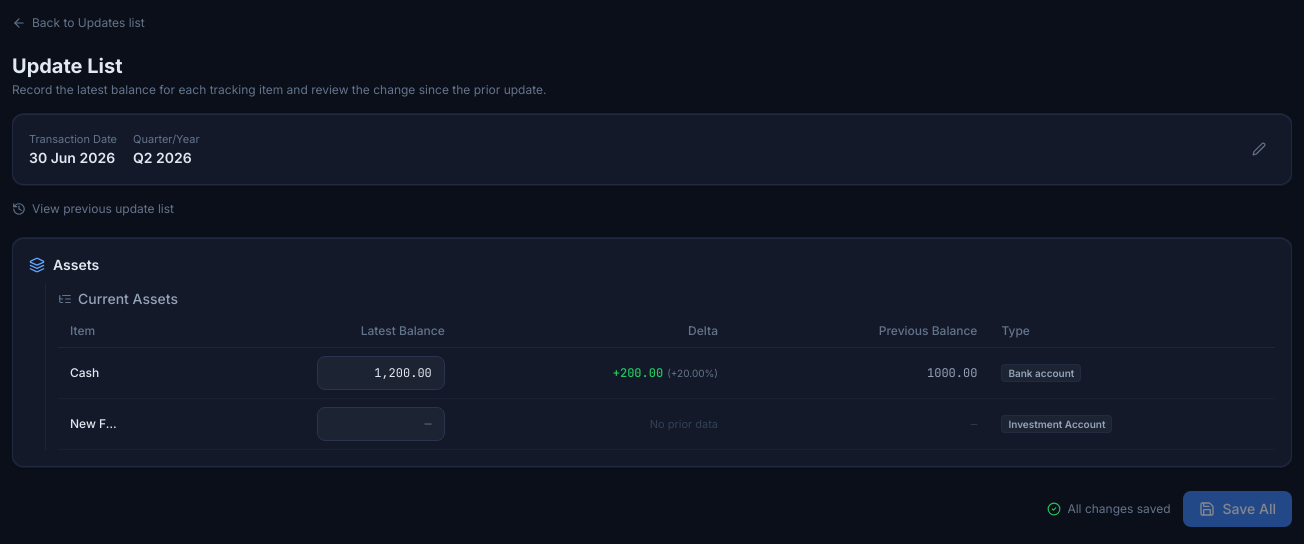
Scenario: UpdateTrackingListDetailPage — balance editing and save › displays thousand-separator commas live while typing a large balance
The width and height of the screenshot is (1304, 544).
Replace the text in the field named "Latest balance for Cash" with "1500000". click: (381, 372)
box: [317,356,445,390]
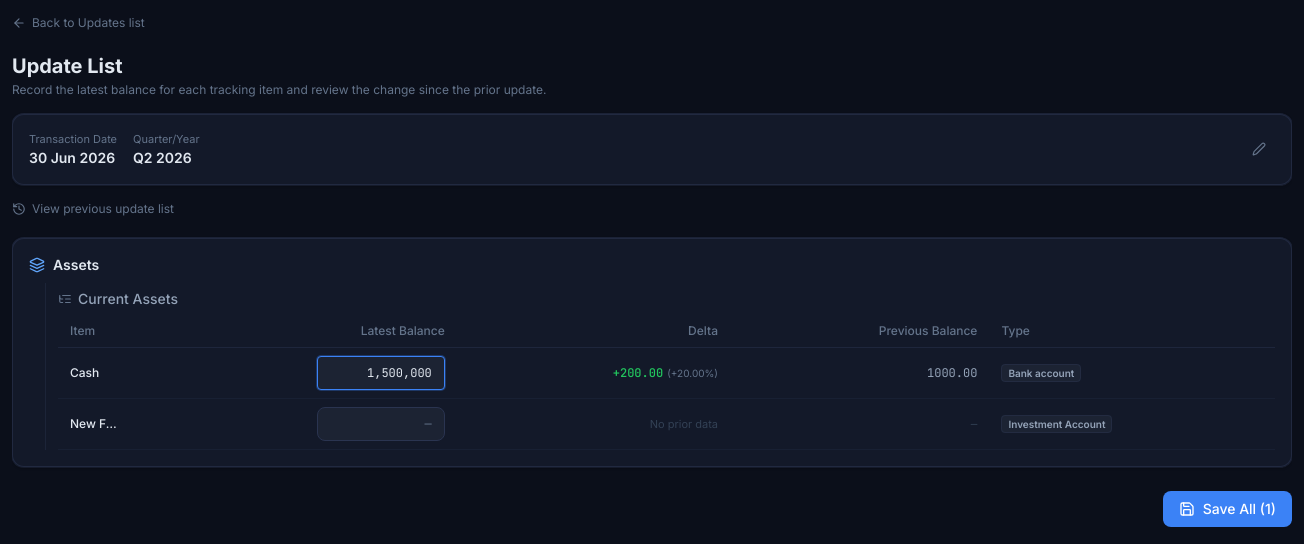
Expected: the field named "Latest balance for Cash" holds "1,500,000", [317,356,445,390]
